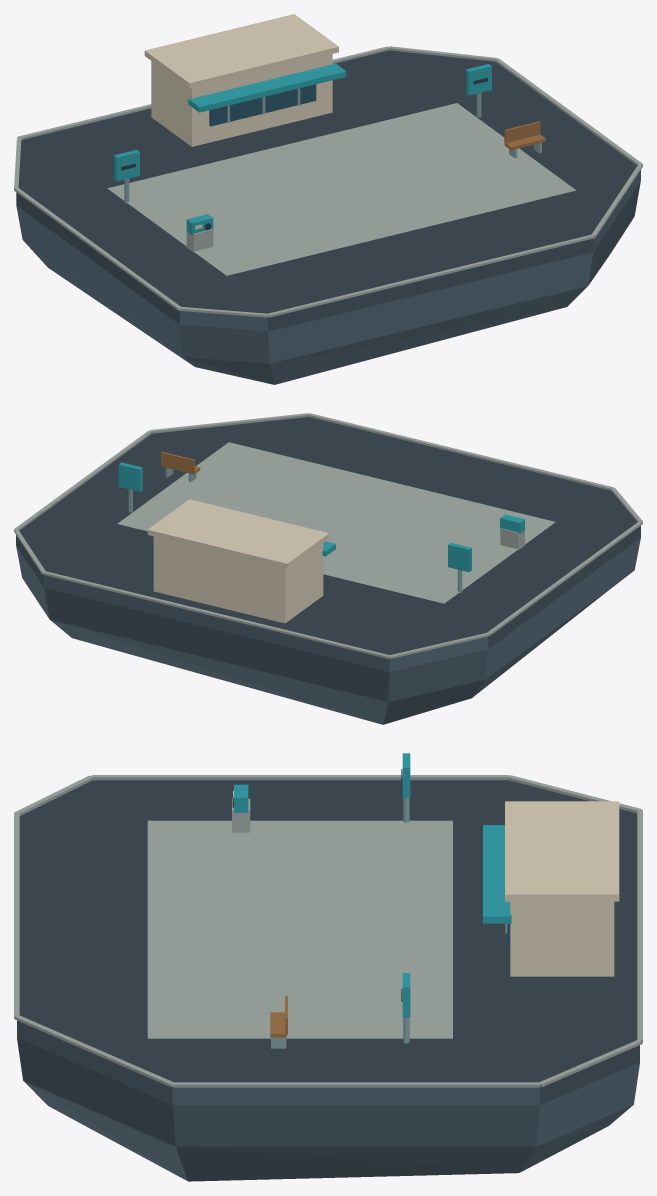
The model's file is fp01-practice-court.glb.
The picture shows the model from 3 angles, top to bottom: view 1: azimuth 30°, elevation 25°; view 2: azimuth 150°, elevation 25°; view 3: azimuth 270°, elevation 25°; orthographic projection. The views are drawn at different scales.
Parts seen in each view (by area): view 1: GEO_foundation, GEO_forecourt, LAND_0_booth, GEO_rim, PROP_bench, PROP_radio, LAND_2_target, LAND_1_target; view 2: GEO_foundation, GEO_forecourt, LAND_0_booth, GEO_rim, PROP_radio, LAND_2_target, LAND_1_target, PROP_bench; view 3: GEO_foundation, GEO_forecourt, LAND_0_booth, GEO_rim, PROP_radio, PROP_bench.
Boxes of the visible parts, box(x1,y1,x2,y2) form: GEO_foundation: box(16, 50, 640, 384); GEO_forecourt: box(107, 103, 576, 275); LAND_0_booth: box(144, 14, 346, 146); GEO_rim: box(14, 46, 642, 317); PROP_bench: box(504, 121, 546, 158); PROP_radio: box(186, 214, 213, 252); LAND_2_target: box(466, 64, 491, 117); LAND_1_target: box(114, 150, 139, 203); GEO_foundation: box(16, 417, 640, 724); GEO_forecourt: box(117, 442, 555, 603); LAND_0_booth: box(147, 499, 335, 623); GEO_rim: box(14, 413, 642, 658); PROP_radio: box(500, 514, 524, 550); LAND_2_target: box(118, 462, 142, 512); LAND_1_target: box(448, 543, 471, 592); PROP_bench: box(161, 452, 200, 482); GEO_foundation: box(17, 780, 639, 1181); GEO_forecourt: box(147, 820, 452, 1038); LAND_0_booth: box(483, 801, 619, 976); GEO_rim: box(14, 775, 642, 1087); PROP_radio: box(232, 784, 250, 832); PROP_bench: box(270, 996, 287, 1048).
Size of the model in its own units: 28.22 by 8.3 by 24.22.
